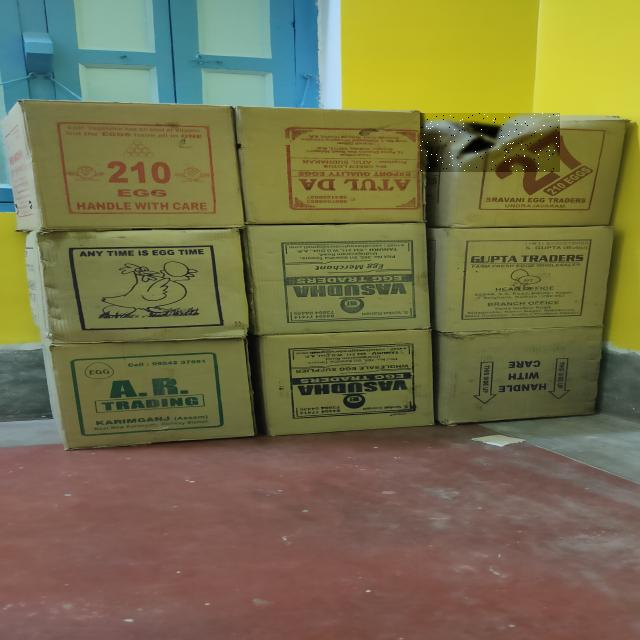squeeze: (420, 114, 560, 171)
